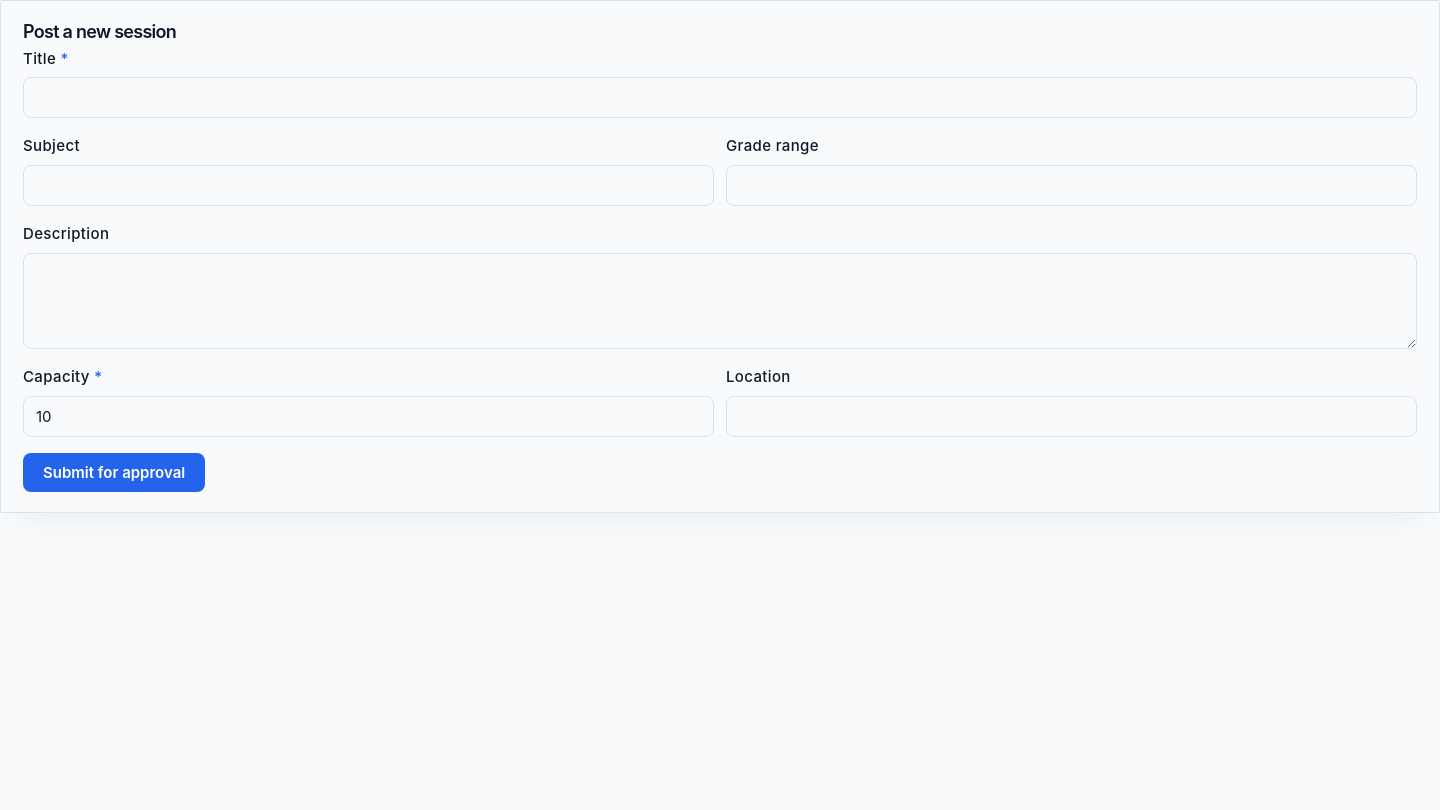
Scenario: SectionForm › requires a title
What coordinates should you click on to do the following:
click the button "Submit for approval"
I would click on:
 (114, 472)
Its box is [23,453,205,492].
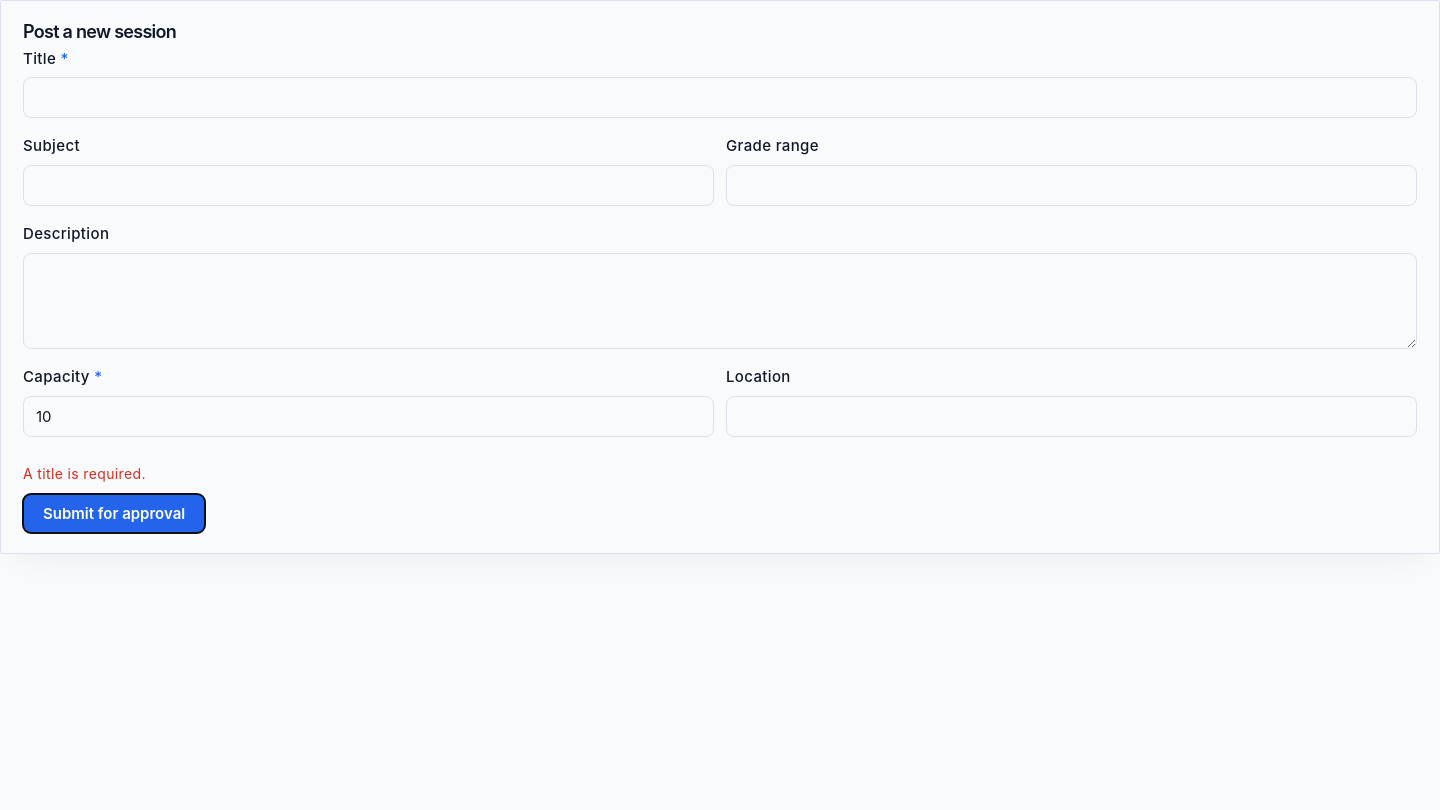
Result: the text "A title is required." is shown at [23,465,146,482]
